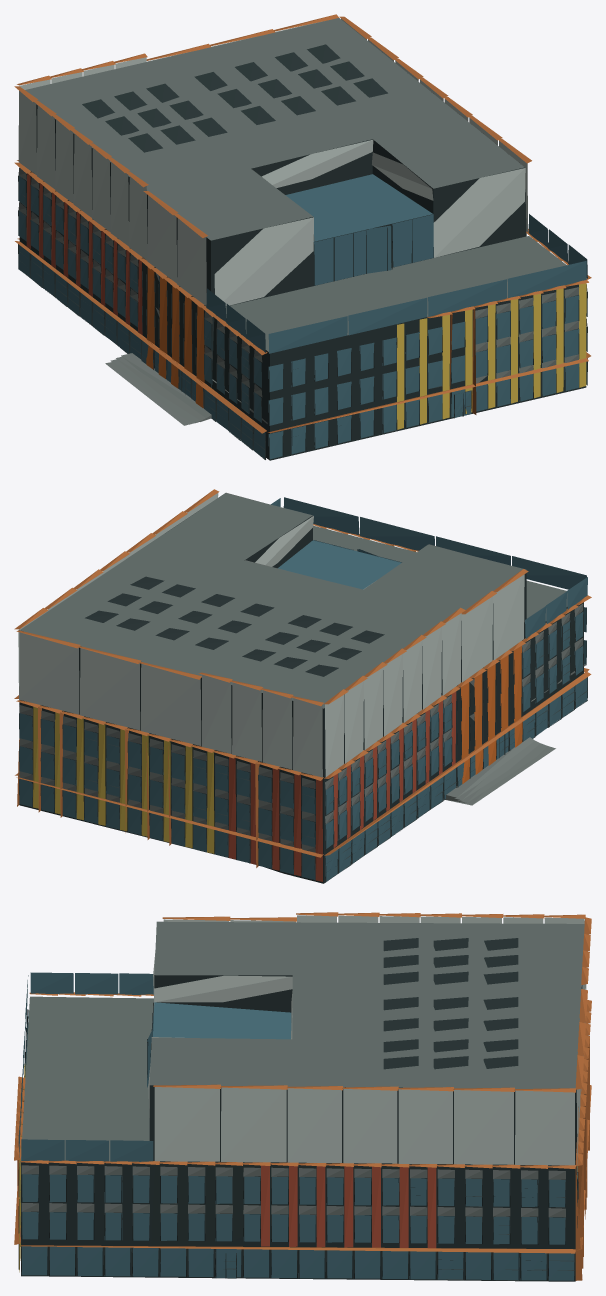
Rendered from haparandaweg-2-4.lod1.glb.
The picture shows the model from 3 angles, top to bottom: view 1: azimuth 30°, elevation 25°; view 2: azimuth 150°, elevation 25°; view 3: azimuth 270°, elevation 25°; orthographic projection. The views are drawn at different scales.
Parts seen in each view (by area): view 1: haparandaweg-2-4; view 2: haparandaweg-2-4; view 3: haparandaweg-2-4.
Boxes of the visible parts, bbox=[...] form: haparandaweg-2-4: bbox=[14, 14, 591, 460]; haparandaweg-2-4: bbox=[14, 489, 591, 883]; haparandaweg-2-4: bbox=[14, 912, 591, 1281].
Bounding box in the file's own units: 44.42 × 21.98 × 57.89.
